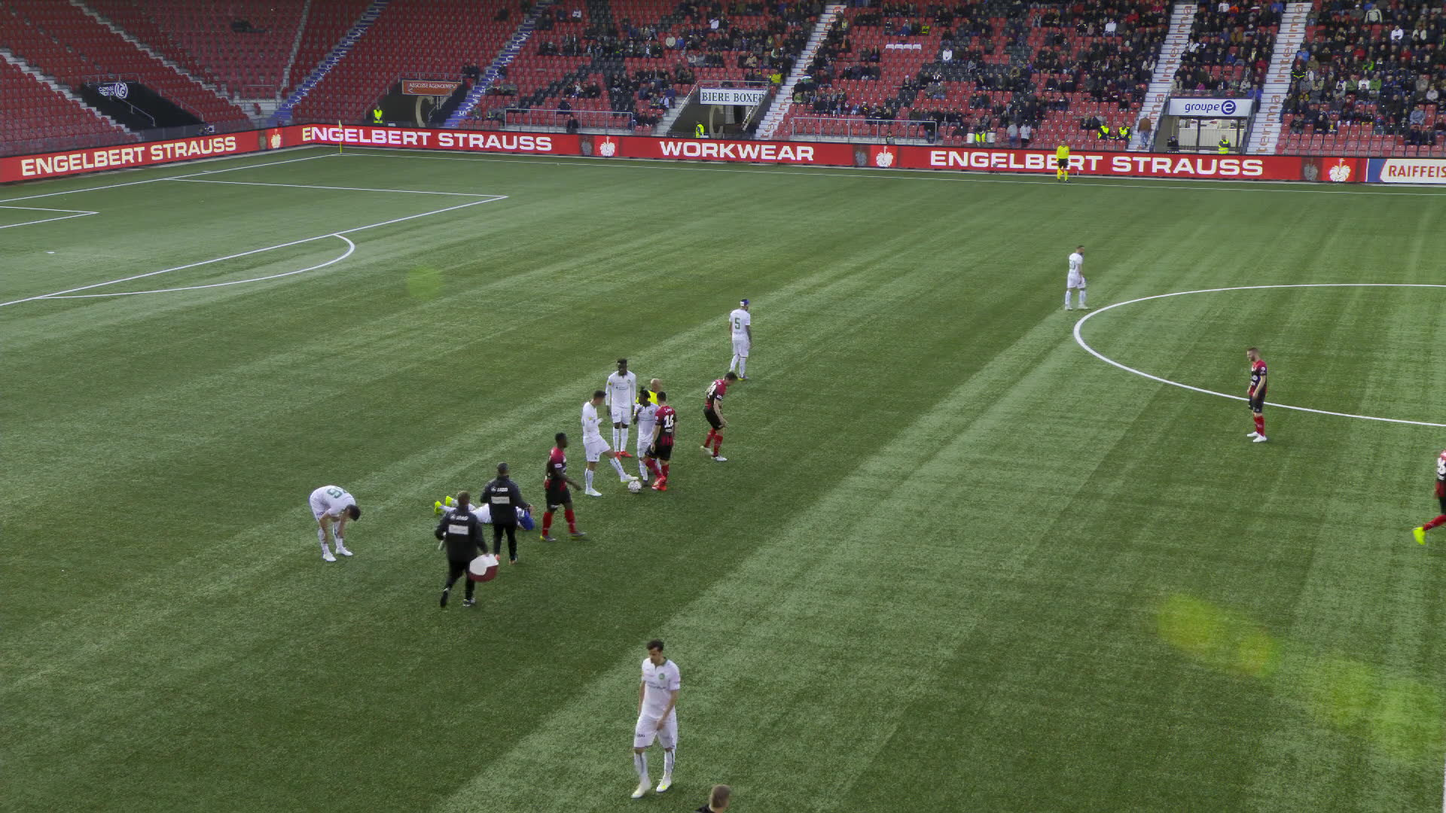ball: (433, 489, 487, 608), (480, 461, 534, 565), (628, 481, 640, 493)
player: (630, 639, 681, 796), (581, 389, 638, 496), (538, 431, 586, 541), (310, 485, 360, 562), (632, 385, 668, 487), (642, 390, 677, 489), (700, 371, 738, 461), (1411, 447, 1445, 542), (605, 357, 636, 459), (434, 495, 523, 527), (1246, 346, 1267, 441), (728, 298, 751, 380), (1064, 245, 1089, 309)
referee: (636, 378, 661, 473), (1056, 139, 1069, 183)
